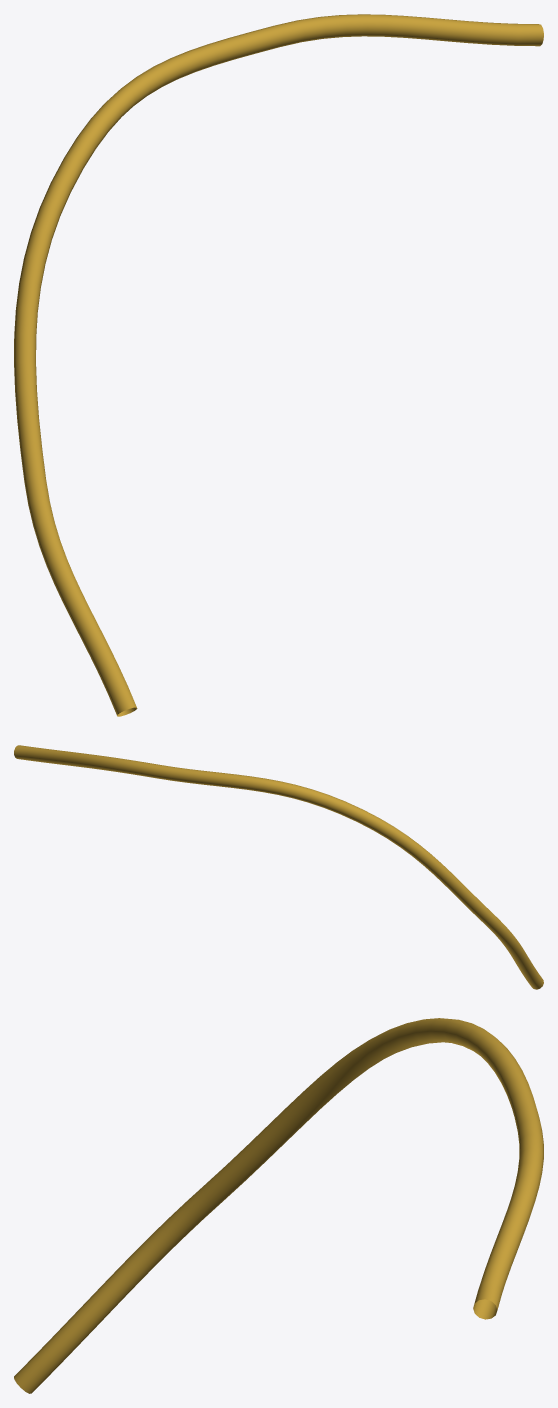
The picture shows the model from 3 angles, top to bottom: view 1: azimuth 30°, elevation 25°; view 2: azimuth 150°, elevation 25°; view 3: azimuth 270°, elevation 25°; orthographic projection. The views are drawn at different scales.
Parts seen in each view (by area): view 1: 右侧腋神经肌支; view 2: 右侧腋神经肌支; view 3: 右侧腋神经肌支.
Part boxes in pixels (x1,y1,x2,y2): 右侧腋神经肌支: [14, 14, 543, 716]; 右侧腋神经肌支: [14, 745, 543, 989]; 右侧腋神经肌支: [14, 1018, 543, 1393].
Bounding box in the file's own units: 0.0493 × 0.0317 × 0.0317.
